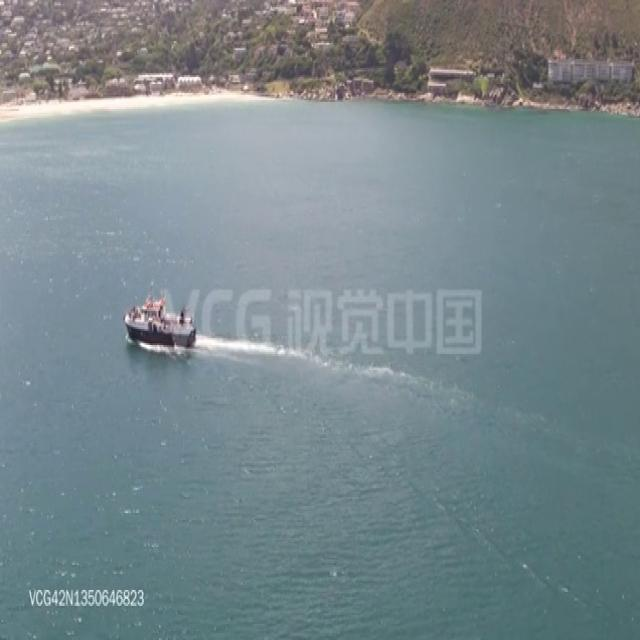houseboat: (121, 284, 198, 347)
